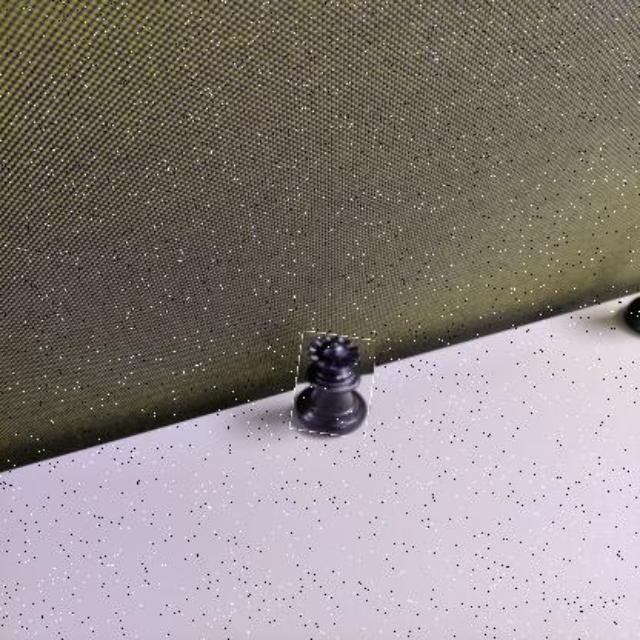black-queen: (293, 333, 373, 437)
